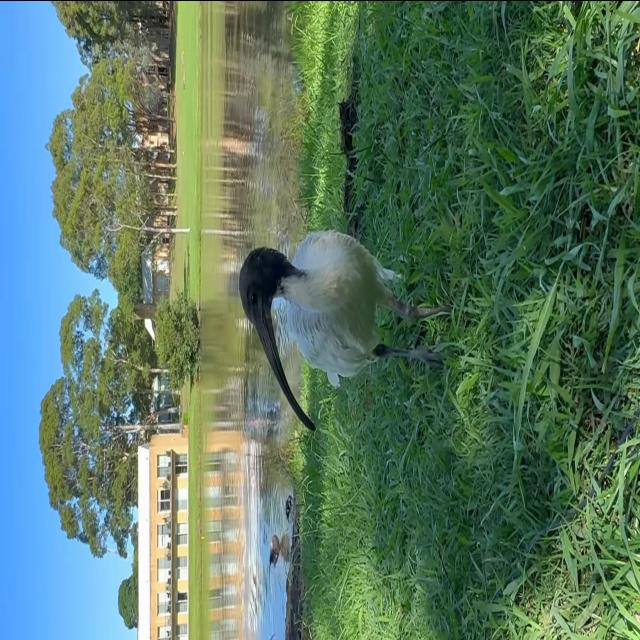Birds-Ibis: (235, 225, 456, 436)
Birds-Other: (266, 530, 286, 568), (283, 490, 297, 522)
